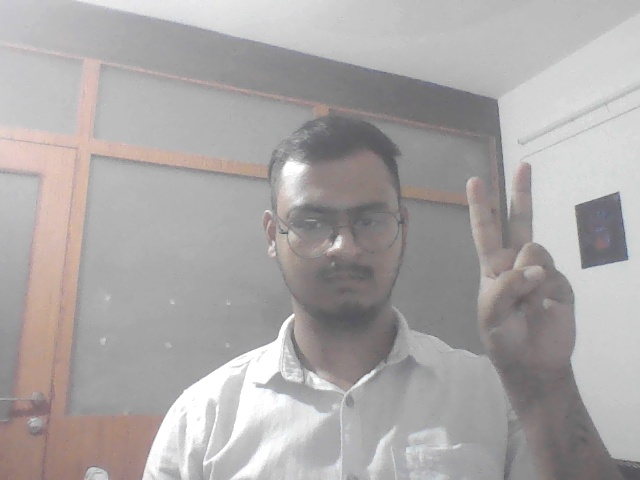Peace: (455, 157, 600, 380)
